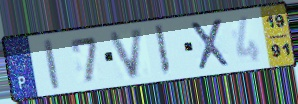4: (233, 13, 264, 66)
7: (68, 34, 101, 85)
I: (41, 37, 63, 92), (153, 22, 173, 78)
V: (107, 25, 147, 81)
X: (187, 16, 234, 72)
